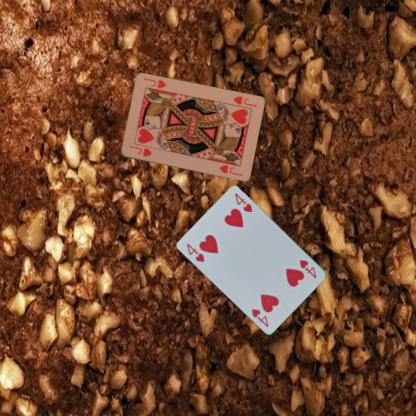4h: (184, 240, 206, 263), (297, 257, 318, 280)
Jh: (227, 93, 258, 110), (127, 142, 153, 158)
